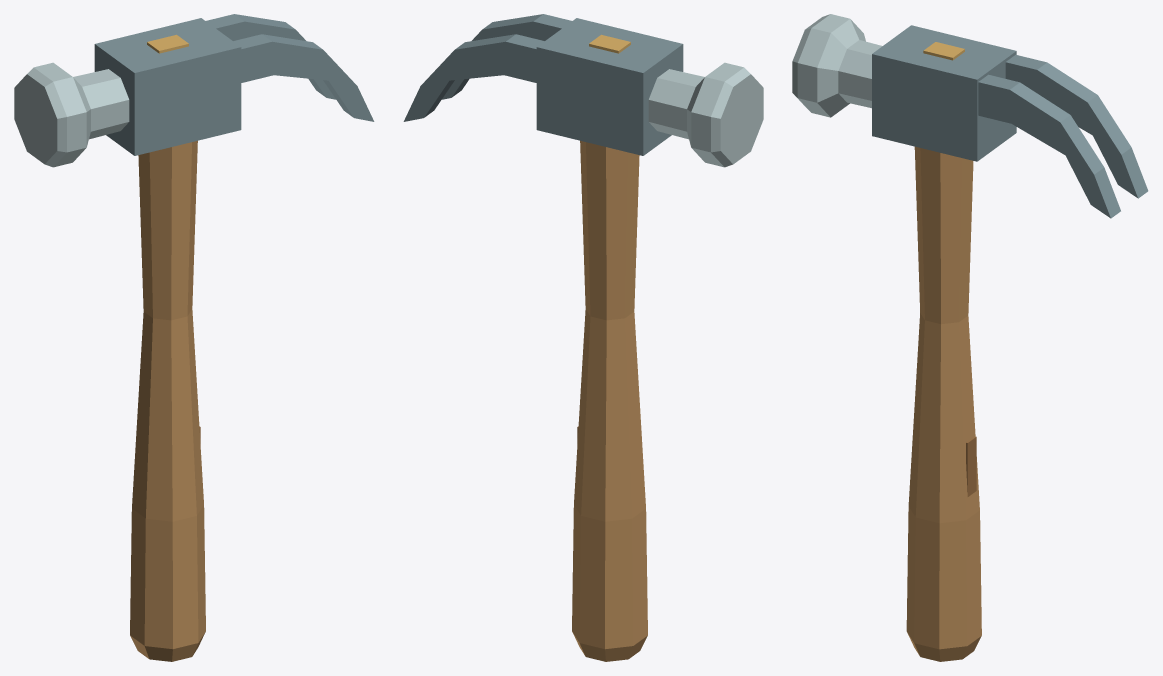
Rendered from Hammer_Wood_Claw.glb.
3 renders of one model, left to right at view 1: azimuth 30°, elevation 25°; view 2: azimuth 150°, elevation 25°; view 3: azimuth 330°, elevation 25°, orthographic.
Visible parts, largest first — view 1: Hammer_Wood_Claw; view 2: Hammer_Wood_Claw; view 3: Hammer_Wood_Claw.
Boxes of the visible parts, box(x1,y1,x2,y2) form: Hammer_Wood_Claw: box(14, 14, 374, 661); Hammer_Wood_Claw: box(403, 14, 763, 661); Hammer_Wood_Claw: box(792, 14, 1148, 661).
Size of the model in its own units: 0.375 by 0.6795 by 0.0961.
